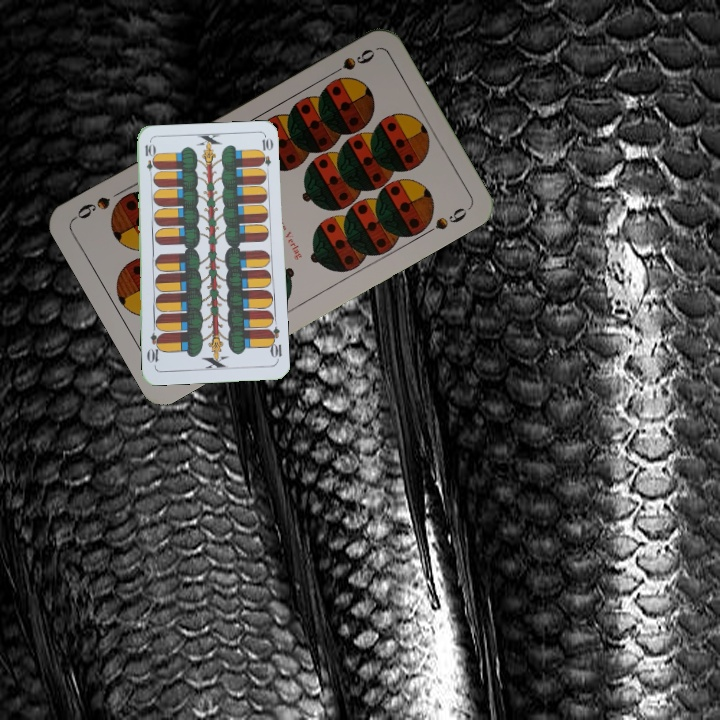E10: (264, 323, 284, 364), (141, 140, 156, 181)
S9: (323, 45, 378, 80)
